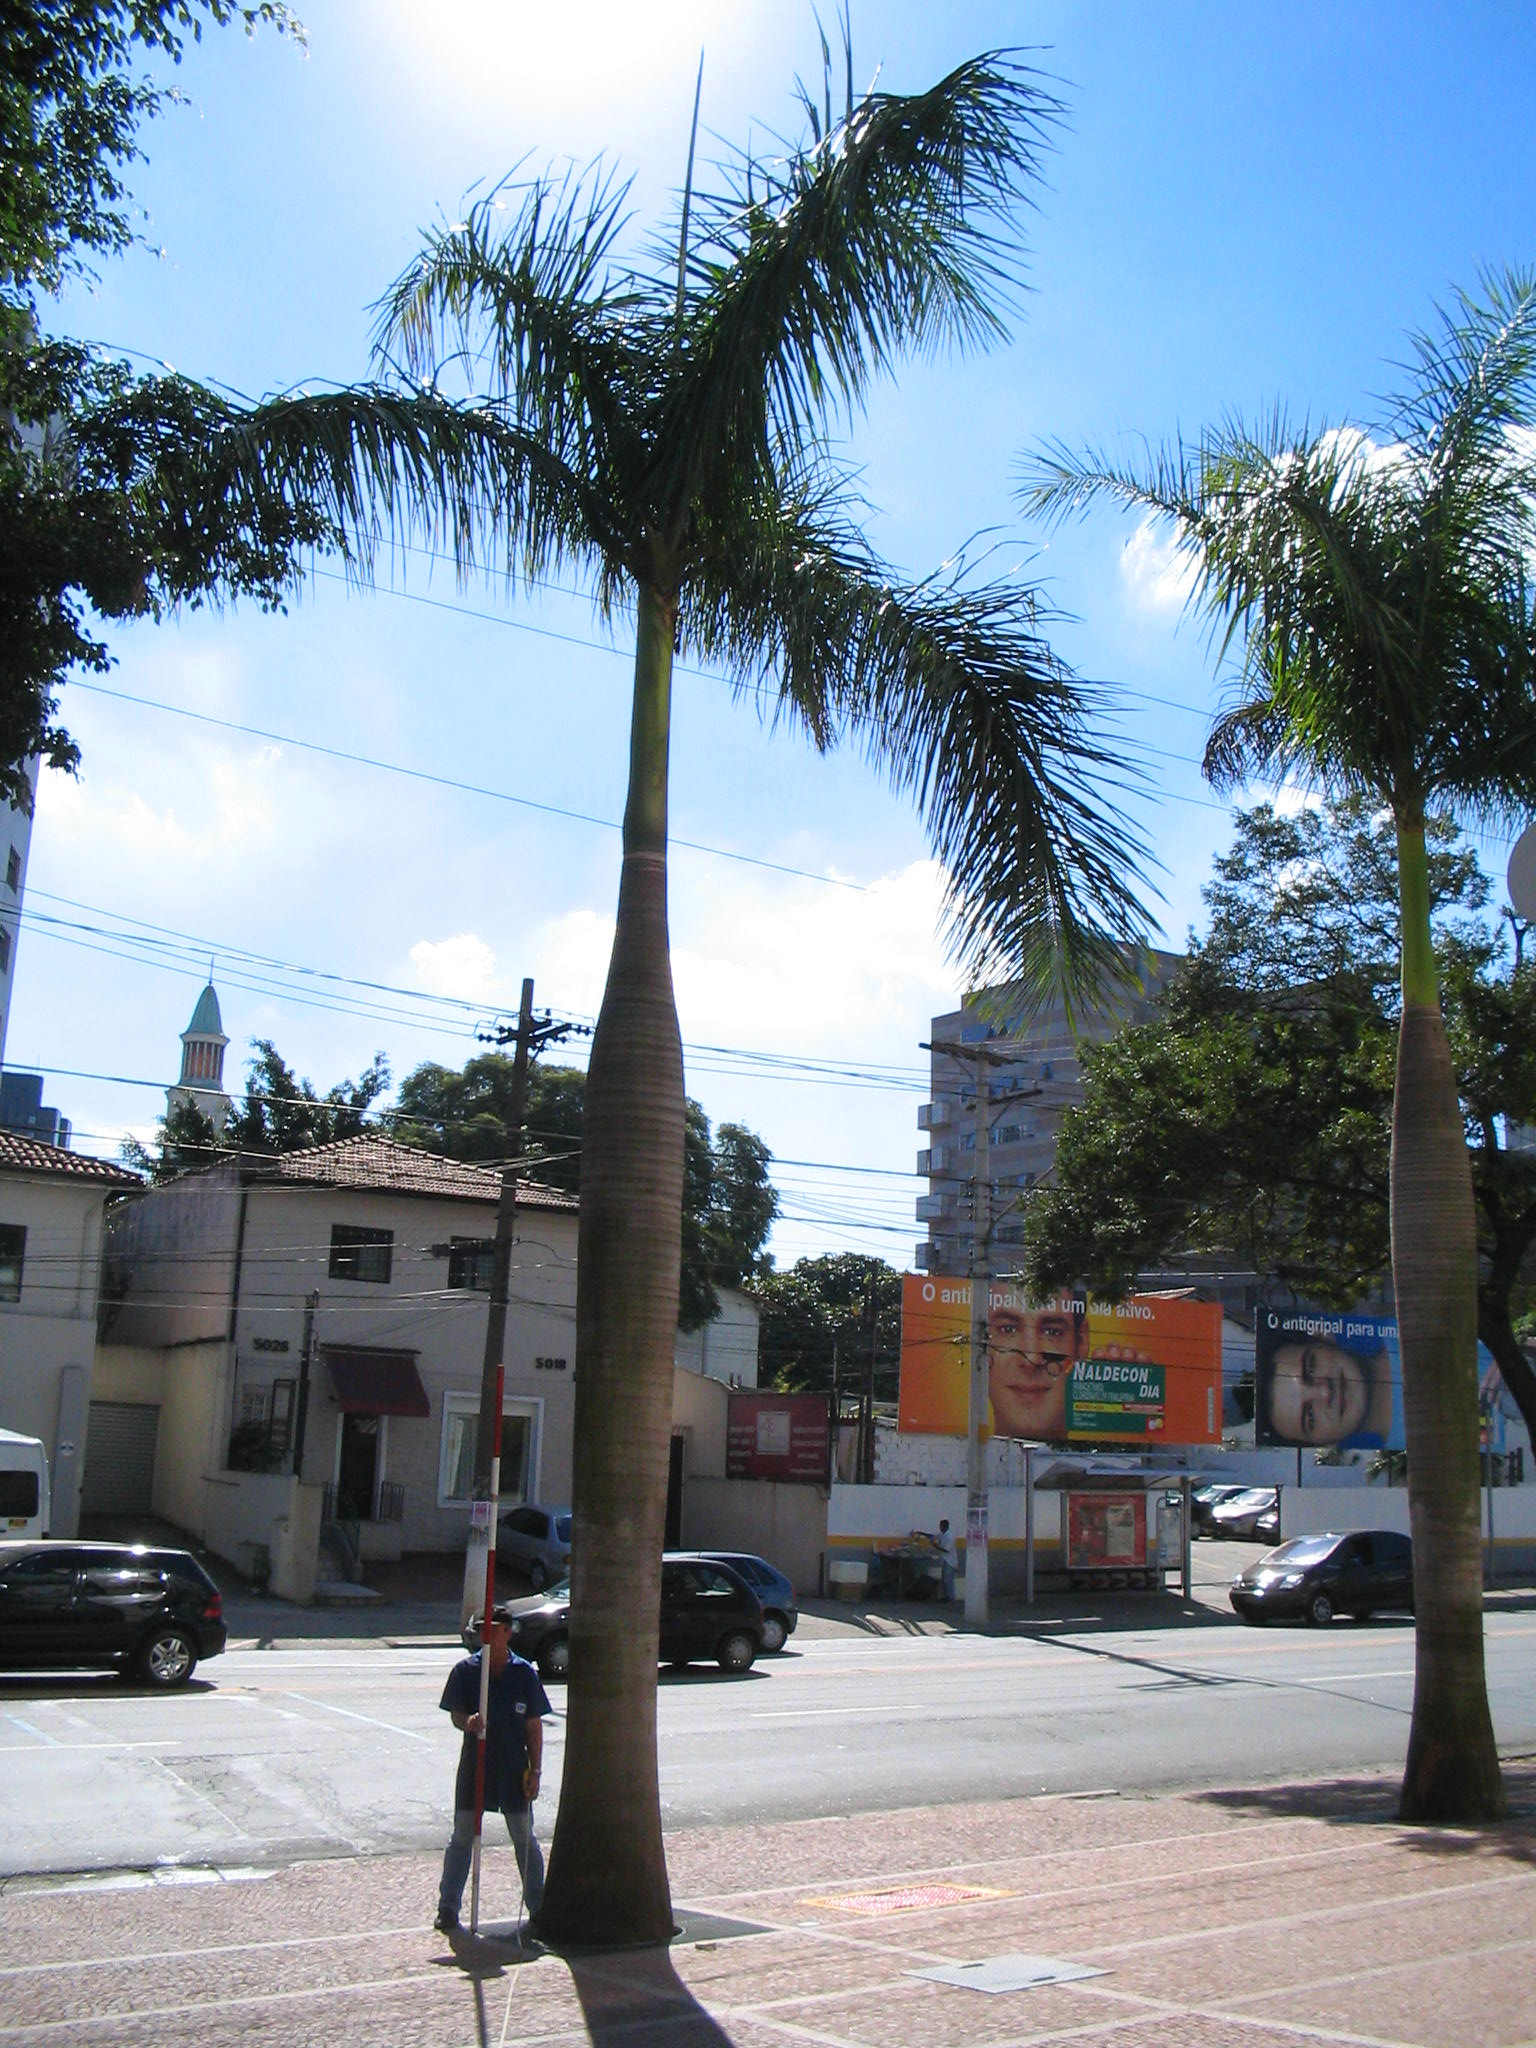crown: (189, 13, 1152, 1061), (1033, 253, 1533, 824)
stem: (510, 663, 739, 1953), (1328, 826, 1525, 1825)
stick: (440, 1361, 520, 1982)
tree: (181, 8, 1160, 1953), (1025, 245, 1536, 1838)
